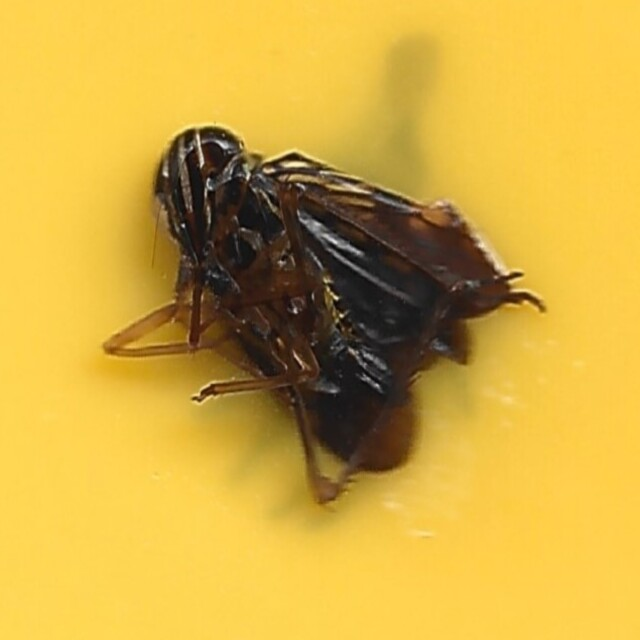Hemiptera: (101, 126, 539, 514)
